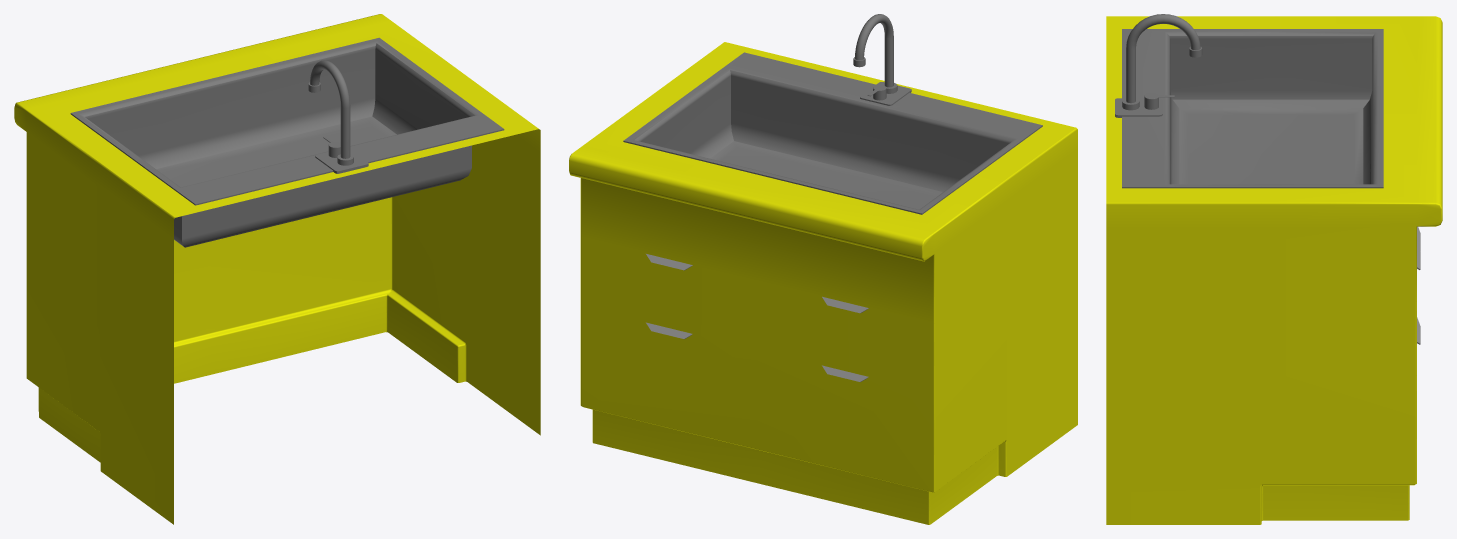
File: furn_4.fbx
3 renders of one model, left to right at view 1: azimuth 30°, elevation 25°; view 2: azimuth 150°, elevation 25°; view 3: azimuth 270°, elevation 25°, orthographic. The views are drawn at different scales.
Visible parts, largest first — view 1: furn_4; view 2: furn_4; view 3: furn_4.
Part boxes in pixels (bbox=[...]): furn_4: bbox=[14, 14, 540, 524]; furn_4: bbox=[569, 14, 1077, 524]; furn_4: bbox=[1106, 14, 1442, 524].
Bounding box in the file's own units: 2.5 × 2.59 × 1.89.
